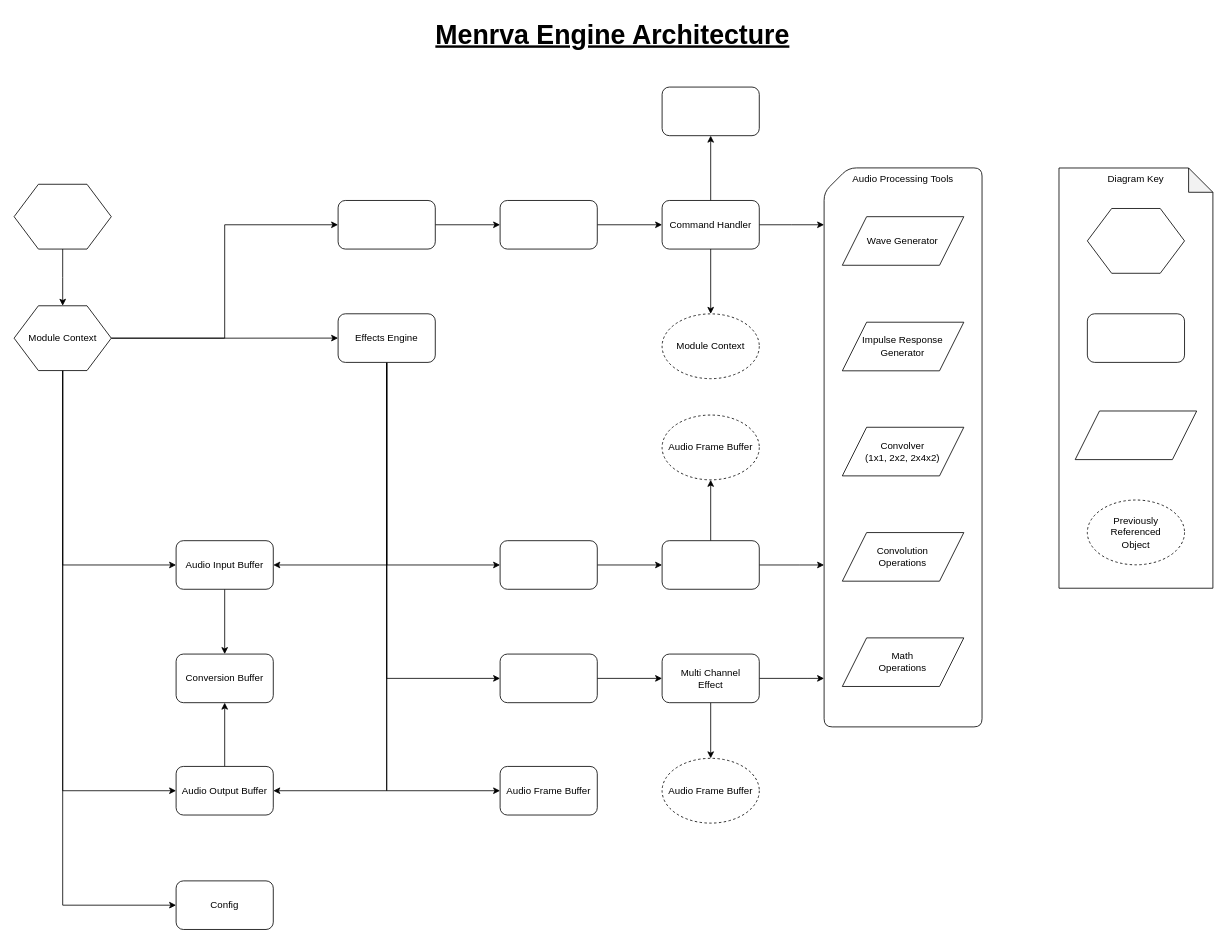
Image size: 1227x944. Some labels were removed from this diagram. The centre of each missing label's shape, as x and y in pixels:
"Command Data" belongs at (710,111).
"Command Handler Map" belongs at (548,224).
"Command Processor" belongs at (386,224).
"Internal Interface" belongs at (1136,337).
"Internal Tool" belongs at (1135,435).
"Module Interface" belongs at (62,216).
"Multi Channel Effects Bundle" belongs at (548,678).
"Public Interface" belongs at (1136,240).
"Single Channel Effect" belongs at (710,564).
"Single Channel Effects Bundle" belongs at (548,564).
